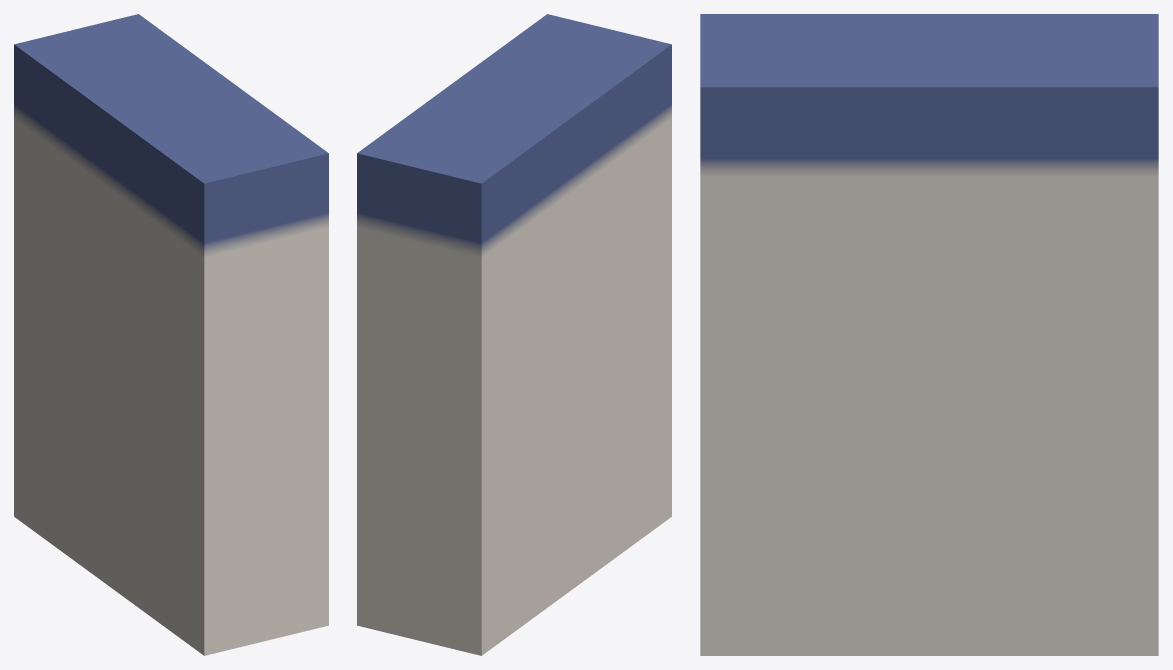
Rendered from Itr_Obj_Book1_06.FBX.
The picture shows the model from 3 angles, left to right: view 1: azimuth 30°, elevation 25°; view 2: azimuth 150°, elevation 25°; view 3: azimuth 270°, elevation 25°; orthographic projection. The views are drawn at different scales.
Visible parts, largest first — view 1: Itr_Obj_Book1_06; view 2: Itr_Obj_Book1_06; view 3: Itr_Obj_Book1_06.
Part boxes in pixels (x1,y1,x2,y2): Itr_Obj_Book1_06: (14,14,328,655); Itr_Obj_Book1_06: (357,14,671,655); Itr_Obj_Book1_06: (700,14,1158,655).
Size of the model in its own units: 2.14 by 7.76 by 5.67.
